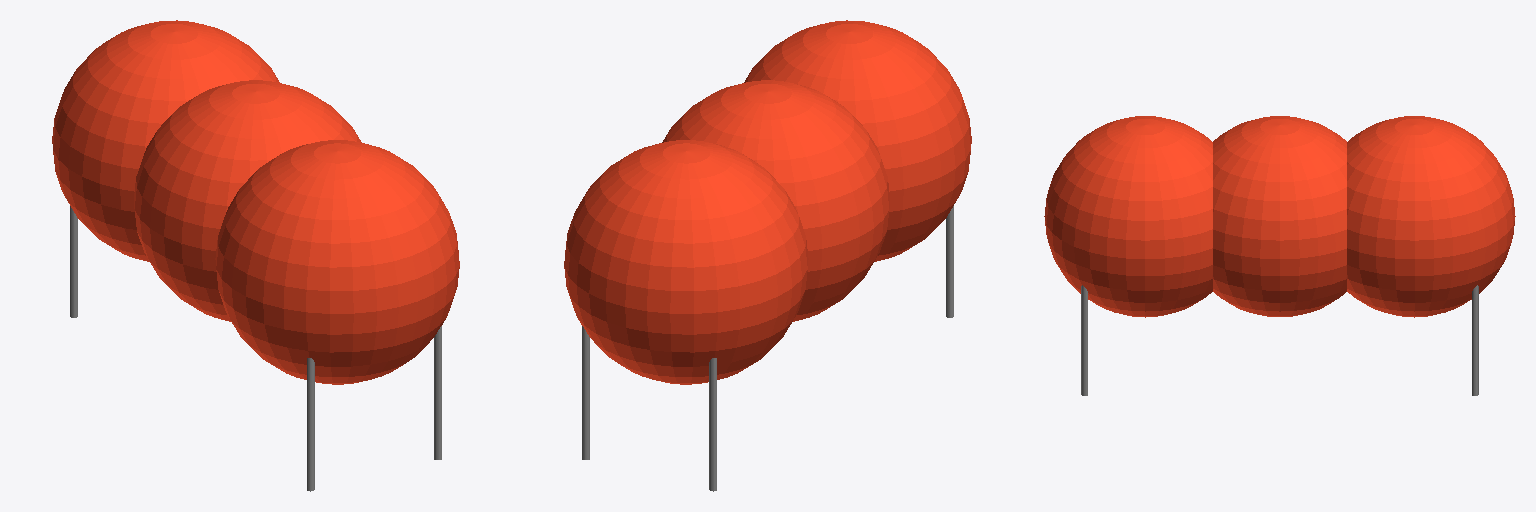
robot.urdf — box:
<?xml version="1.0" ?>
<robot name="box">

  <material name="panda_white">
    <color rgba="1. 0.87 0.68 1."/>
  </material>

  <material name="metal">
    <color rgba="0.6 0.6 0.6 1."/>
  </material>

  <link name="link1">
    <inertial>
      <origin rpy="0 0 0" xyz="0 0 0"/>
       <mass value=".0"/>
       <inertia ixx="0" ixy="0" ixz="0" iyy="0" iyz="0" izz="0"/>
    </inertial>

    <visual>
      <origin rpy="0 0 0" xyz="0.0 0 0.25"/>
      <geometry>
        <box size="0.2 0.6 0.005"/>
      </geometry>
      <material name="panda_white"/>
    </visual>
  </link>

  <link name="link2">
    <inertial>
      <origin rpy="0 0 0" xyz="0 0 0"/>
       <mass value=".0"/>
       <inertia ixx="0" ixy="0" ixz="0" iyy="0" iyz="0" izz="0"/>
    </inertial>

    <visual>
      <origin rpy="0 0 0" xyz="0.09 0.29 0.125"/>
      <geometry>
        <cylinder radius="0.005" length="0.25"/>
      </geometry>
      <material name="metal"/>
    </visual>

    <visual>
      <origin rpy="0 0 0" xyz="0.09 -0.29 0.125"/>
      <geometry>
        <cylinder radius="0.005" length="0.25"/>
      </geometry>
      <material name="metal"/>
    </visual>

    <visual>
      <origin rpy="0 0 0" xyz="-0.09 0.29 0.125"/>
      <geometry>
        <cylinder radius="0.005" length="0.25"/>
      </geometry>
      <material name="metal"/>
    </visual>

    <visual>
      <origin rpy="0 0 0" xyz="-0.09 -0.29 0.125"/>
      <geometry>
        <cylinder radius="0.005" length="0.25"/>
      </geometry>
      <material name="metal"/>
    </visual>
  </link>

  <link name="link3">
    <inertial>
      <origin rpy="0 0 0" xyz="0 0 0"/>
       <mass value=".0"/>
       <inertia ixx="0" ixy="0" ixz="0" iyy="0" iyz="0" izz="0"/>
    </inertial>

    <visual>
      <origin rpy="0 0 0" xyz="0 -0.2 0.25"/>
      <geometry>
        <sphere radius="0.15"/>
      </geometry>
      <material name="orangered">
        <color rgba="1 0.34 0.2 0.1"/>
      </material>
    </visual>

    <visual>
      <origin rpy="0 0 0" xyz="0 0 0.25"/>
      <geometry>
        <sphere radius="0.15"/>
      </geometry>
      <material name="orangered">
        <color rgba="1 0.34 0.2 0.1"/>
      </material>
    </visual>

    <visual>
      <origin rpy="0 0 0" xyz="0 0.2 0.25"/>
      <geometry>
        <sphere radius="0.15"/>
      </geometry>
      <material name="orangered">
        <color rgba="1 0.34 0.2 0.1"/>
      </material>
    </visual>
  </link>

  <joint name="fixed_joint" type="fixed">
    <parent link="link1"/>
    <child link="link2"/>
    <origin xyz="0 0 0" rpy="0 0 0"/>
  </joint>

  <joint name="fixed_joint_2" type="fixed">
    <parent link="link1"/>
    <child link="link3"/>
    <origin xyz="0 0 0" rpy="0 0 0"/>
  </joint>


</robot>

--- What the picture shows (computed from the rendered views, not written in the file) ---
3 views of the same robot in one strip: view 1: azimuth 30°, elevation 25°; view 2: azimuth 150°, elevation 25°; view 3: azimuth 270°, elevation 25° (orthographic).
Model box with 3 links and 2 joints (2 fixed), rooted at link1, posed every joint at zero.
Links seen in each view (by area): view 1: link3, link2; view 2: link3, link2; view 3: link3, link2.
Boxes of the visible links, bbox=[...] form: link3: bbox=[52, 20, 459, 384]; link2: bbox=[70, 206, 441, 491]; link3: bbox=[564, 20, 971, 384]; link2: bbox=[582, 206, 953, 491]; link3: bbox=[1044, 116, 1515, 317]; link2: bbox=[1081, 285, 1478, 395].
Bounding box of the posed robot: 0.3 × 0.7 × 0.4 m (x, y, z).
Geometry: primitives only (box / cylinder / sphere), no mesh files.